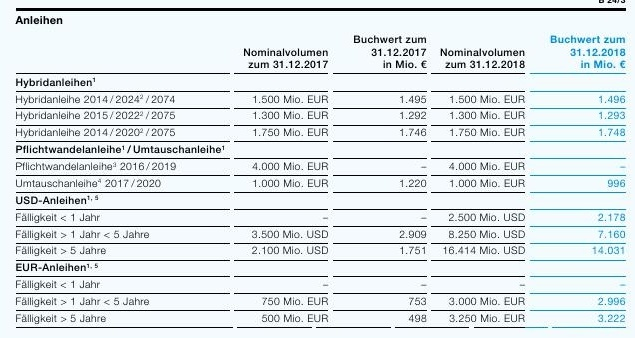table: (0, 0, 635, 338)
